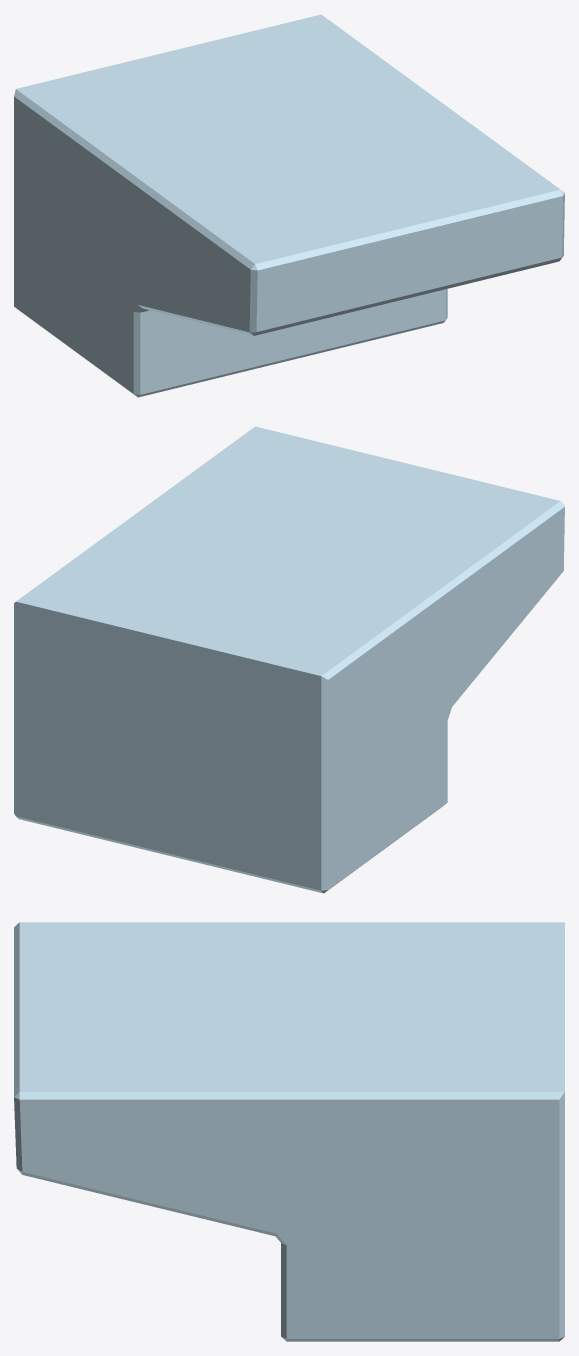
The model's file is Assembly 1 - Sonar Desk.gltf.
3 renders of one model, top to bottom at view 1: azimuth 30°, elevation 25°; view 2: azimuth 150°, elevation 25°; view 3: azimuth 270°, elevation 25°, orthographic. The views are drawn at different scales.
Parts seen in each view (by area): view 1: Sonar Desk; view 2: Sonar Desk; view 3: Sonar Desk.
Part boxes in pixels (box(x1,y1,x2,y2)): Sonar Desk: box(14, 14, 564, 397); Sonar Desk: box(14, 426, 564, 893); Sonar Desk: box(14, 922, 564, 1341).
Bounding box in the file's own units: 0.9144 × 0.6096 × 1.22.
